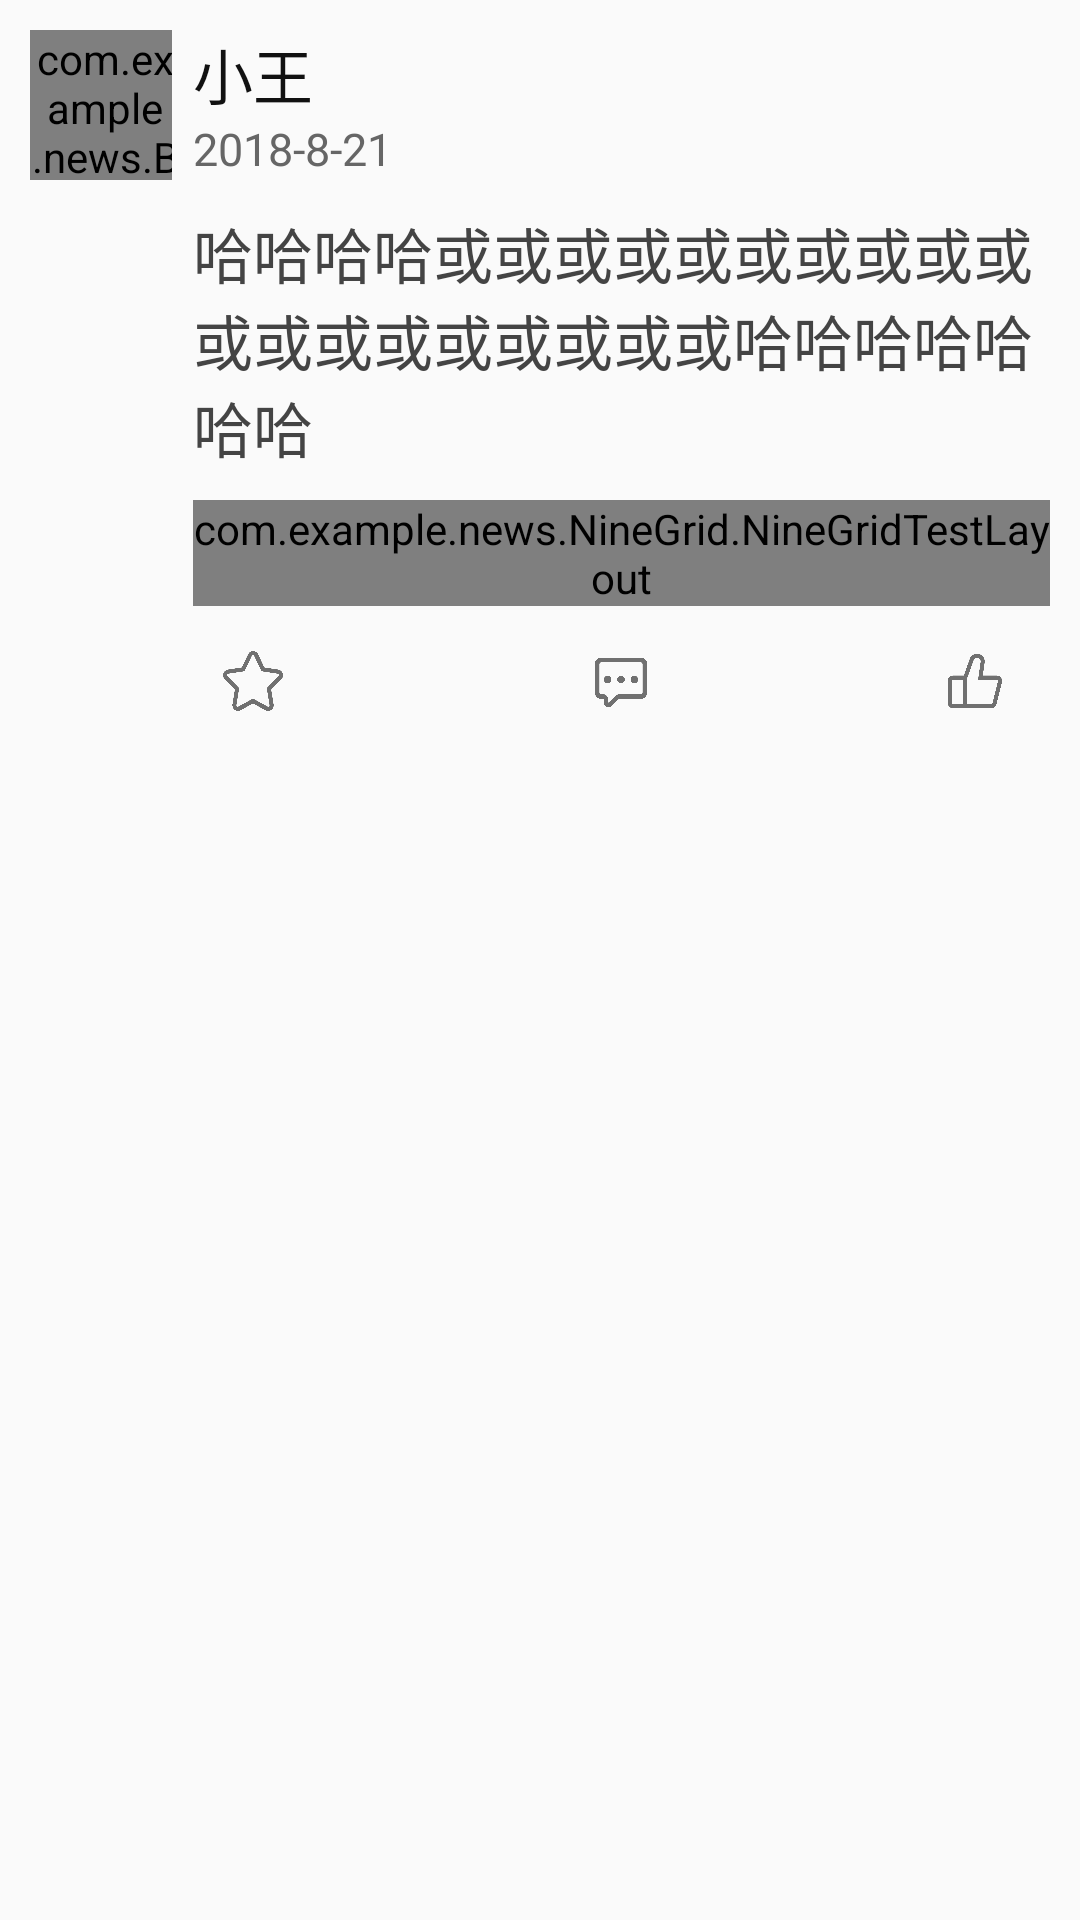

Named icons in this screenshot (1080px x 1920px) and their centers, point (x, y):
dianzan: point (975, 681)
pinglun: point (621, 682)
shoucang: point (253, 681)
